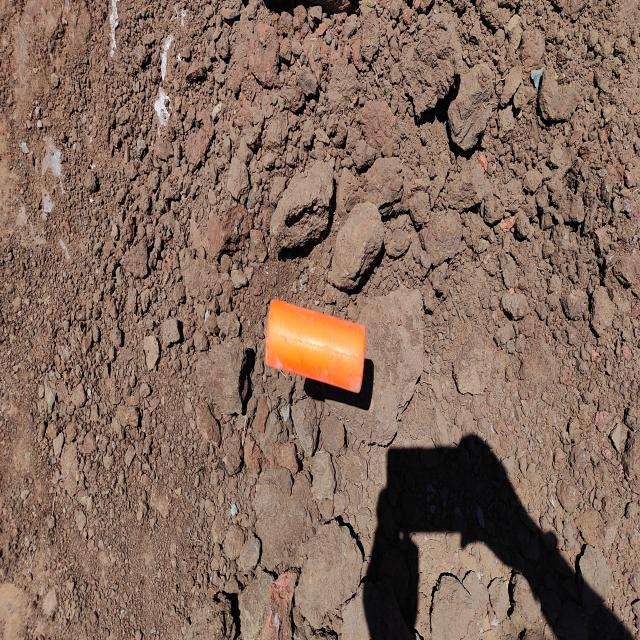Orange_hammer: (264, 297, 366, 395)
